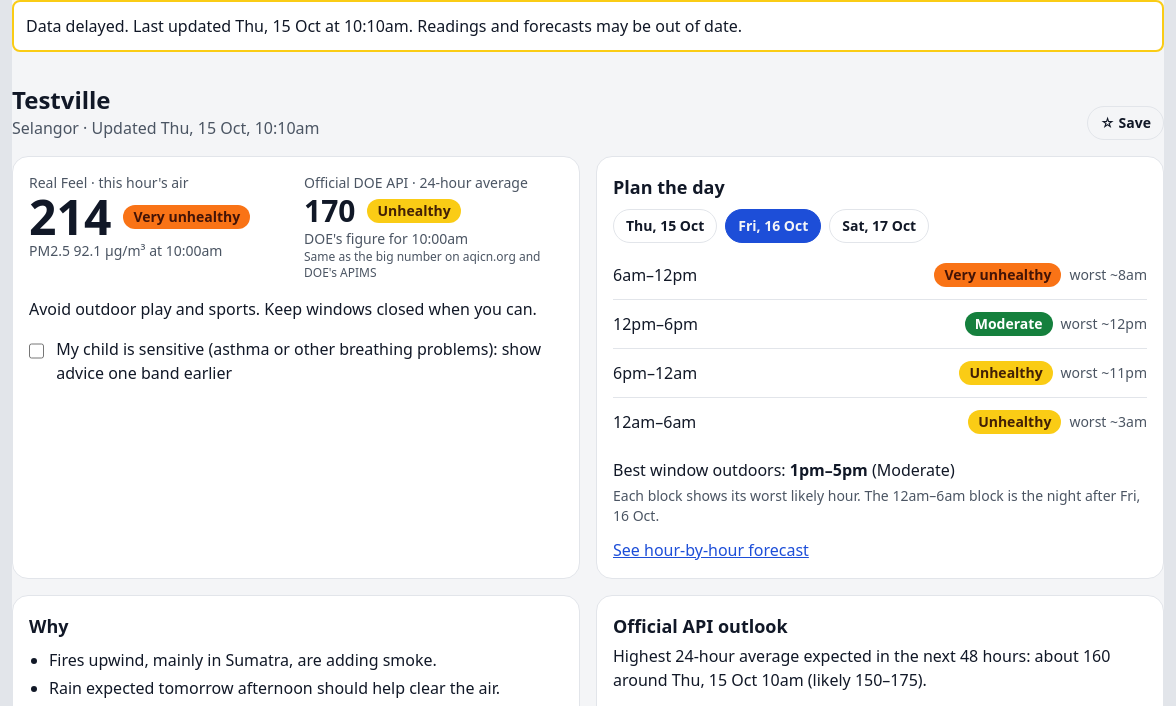
Test: the sensitive switch makes the advice one band stricter and is remembered
The width and height of the screenshot is (1176, 706).
Expected: the text "Avoid outdoor play and sports. Keep windows closed when you can." is shown, [29,297,563,321]
What coordinates should you click on to do the following:
click the switch
I would click on:
 (37, 351)
Its box is [29,341,44,361].
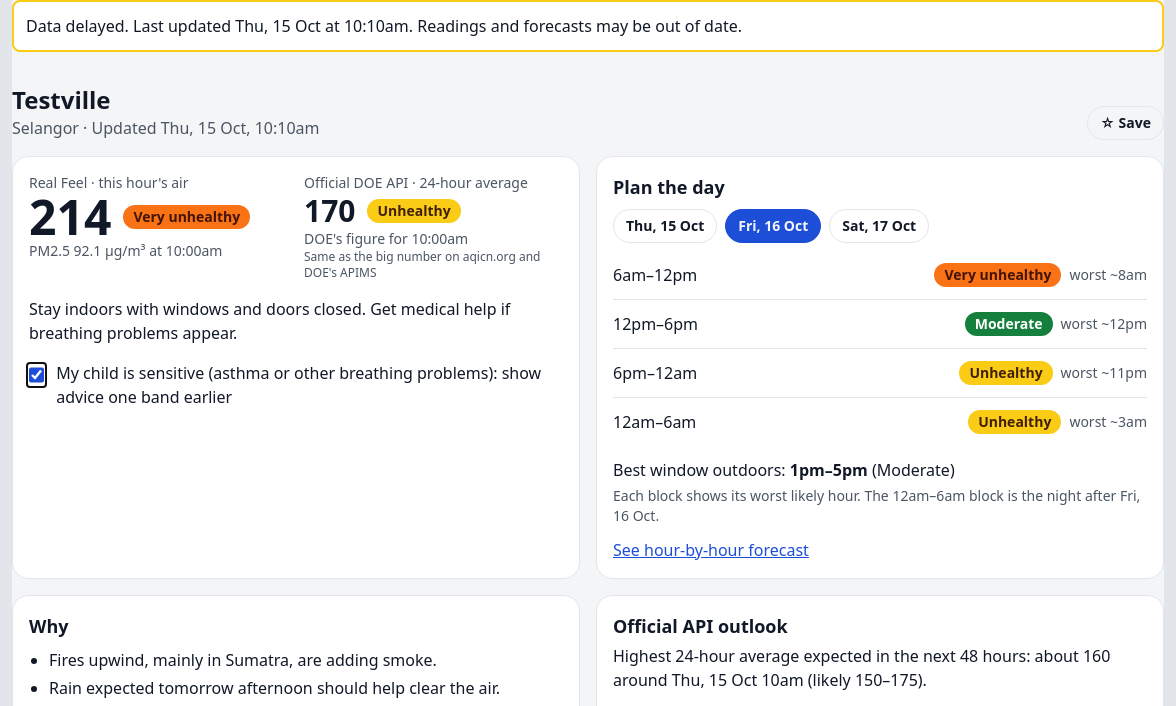
Expected: the text "Stay indoors with windows and doors closed. Get medical help if breathing problems appear." is shown, [29,298,510,344]
